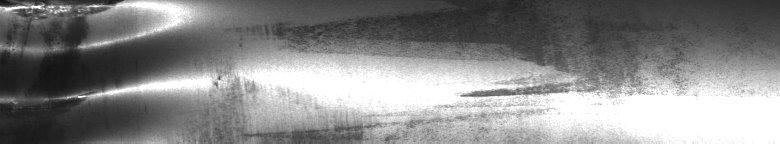ke: (4, 4, 223, 110)
